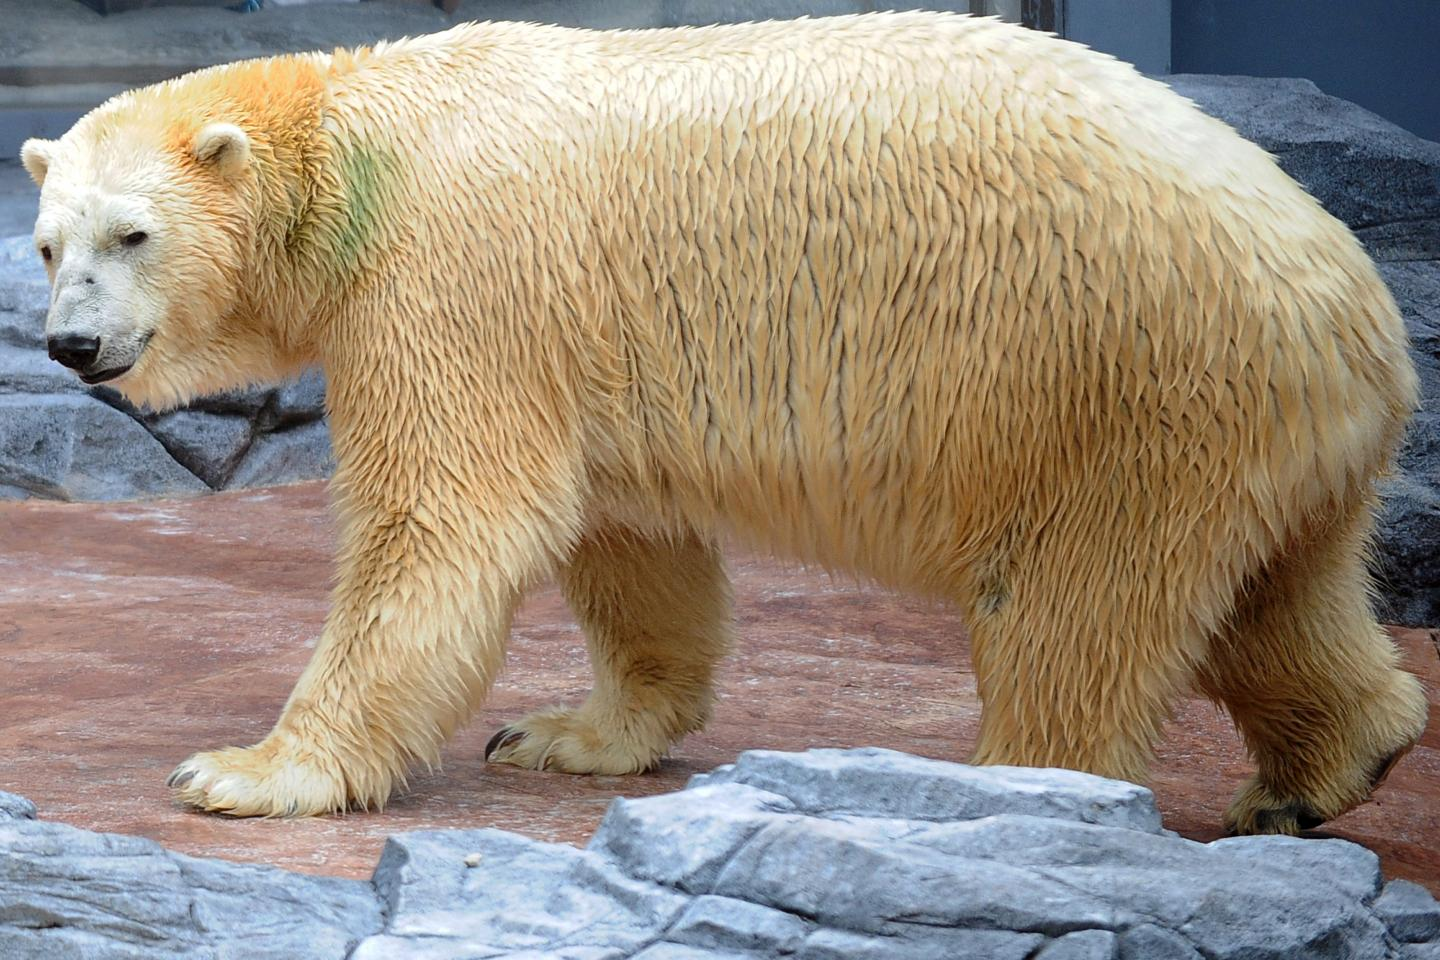Polar Bear: (36, 27, 1427, 915)
